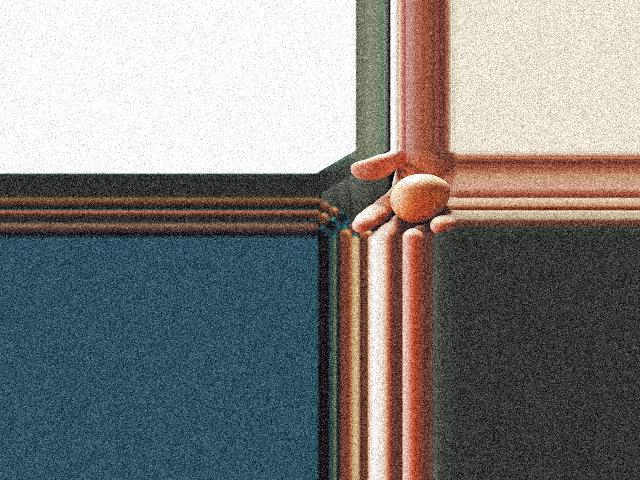egg: (390, 174, 451, 224)
